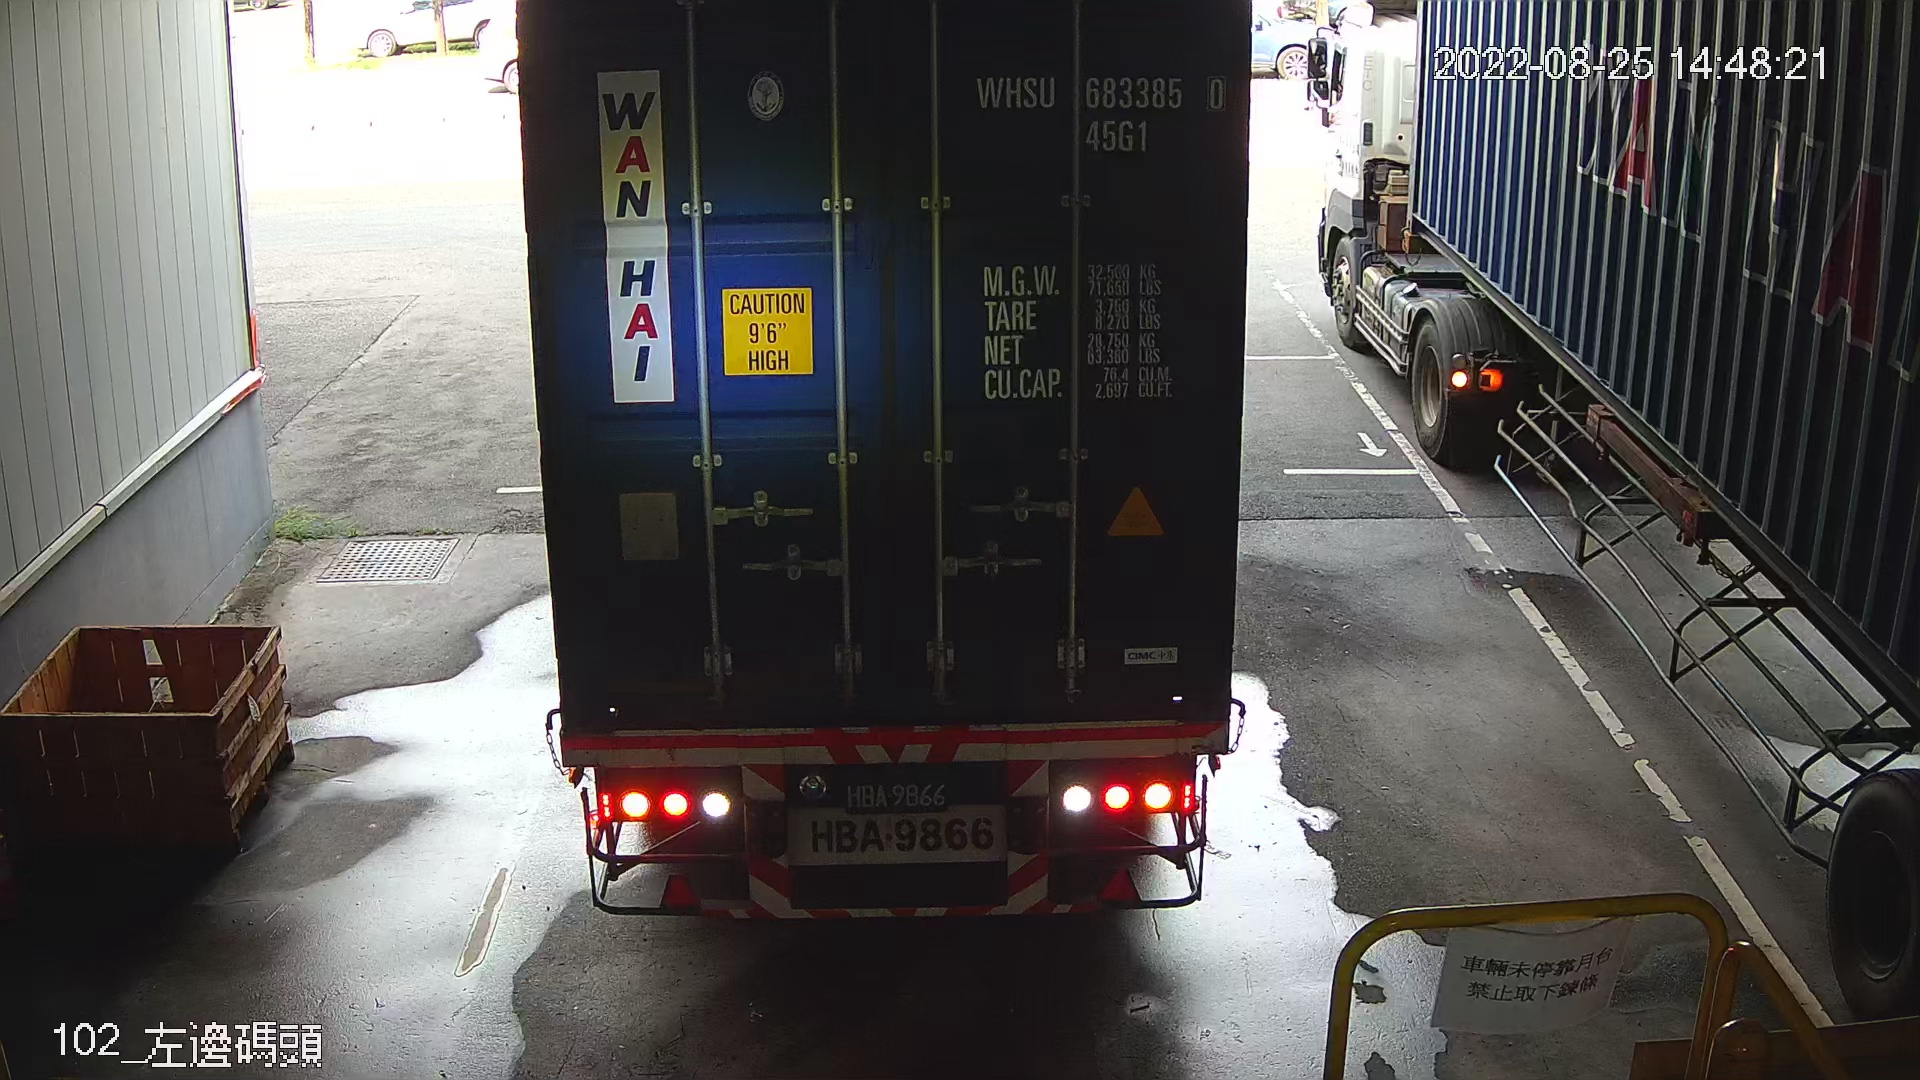container: (963, 61, 1237, 164)
